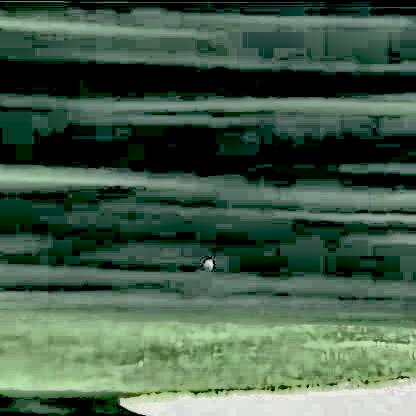golfball: (201, 254, 212, 267)
